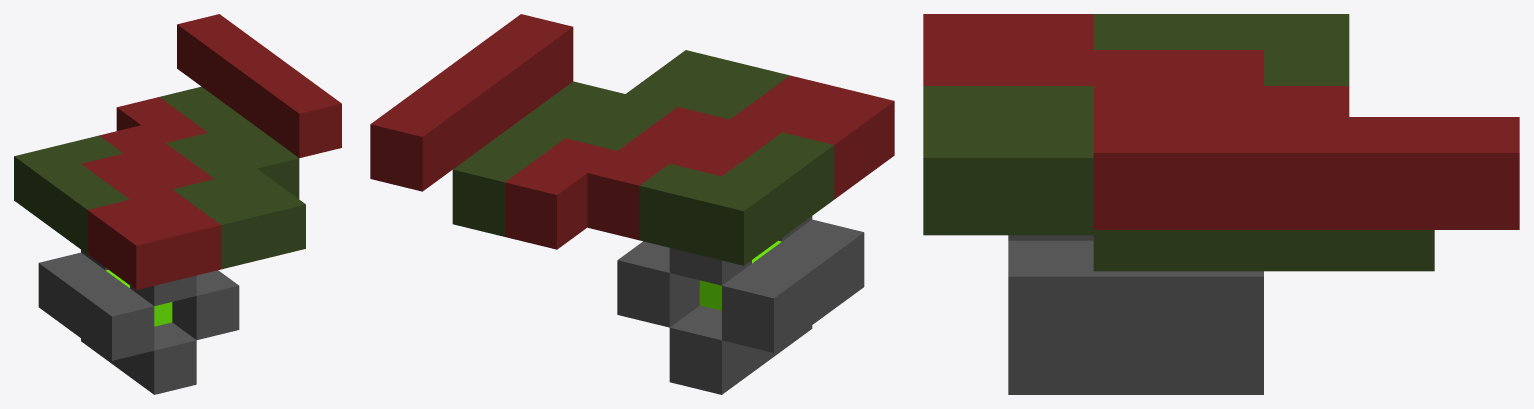
Rendered from Extra-10-GalactixRacer_Wing2_L.obj.
3 views of the same model, side by side, from view 1: azimuth 30°, elevation 25°; view 2: azimuth 150°, elevation 25°; view 3: azimuth 270°, elevation 25° (orthographic). The views are drawn at different scales.
Visible parts, largest first — view 1: GalactixRacer_Wing2_L; view 2: GalactixRacer_Wing2_L; view 3: GalactixRacer_Wing2_L.
Part boxes in pixels (bbox=[...]): GalactixRacer_Wing2_L: bbox=[14, 14, 341, 394]; GalactixRacer_Wing2_L: bbox=[370, 14, 894, 394]; GalactixRacer_Wing2_L: bbox=[923, 14, 1519, 394].
Bounding box in the file's own units: 0.6 × 0.5 × 0.7.
Materials: 1 (1 with a texture image).
